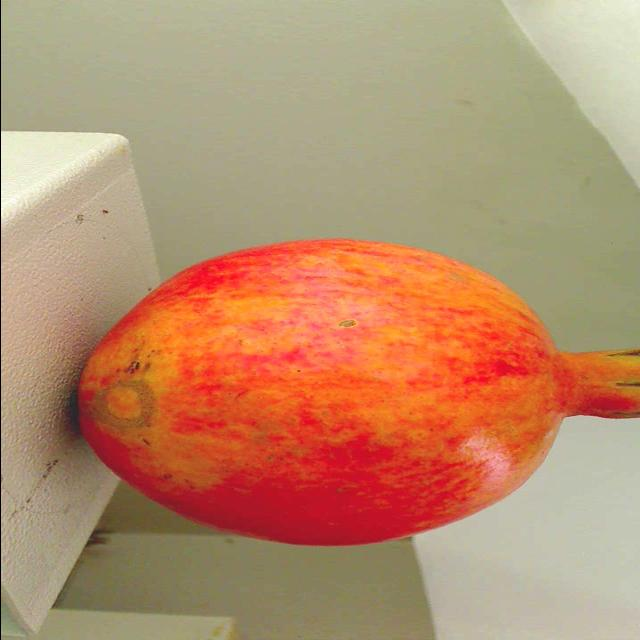pomegranate: (63, 231, 640, 559)
